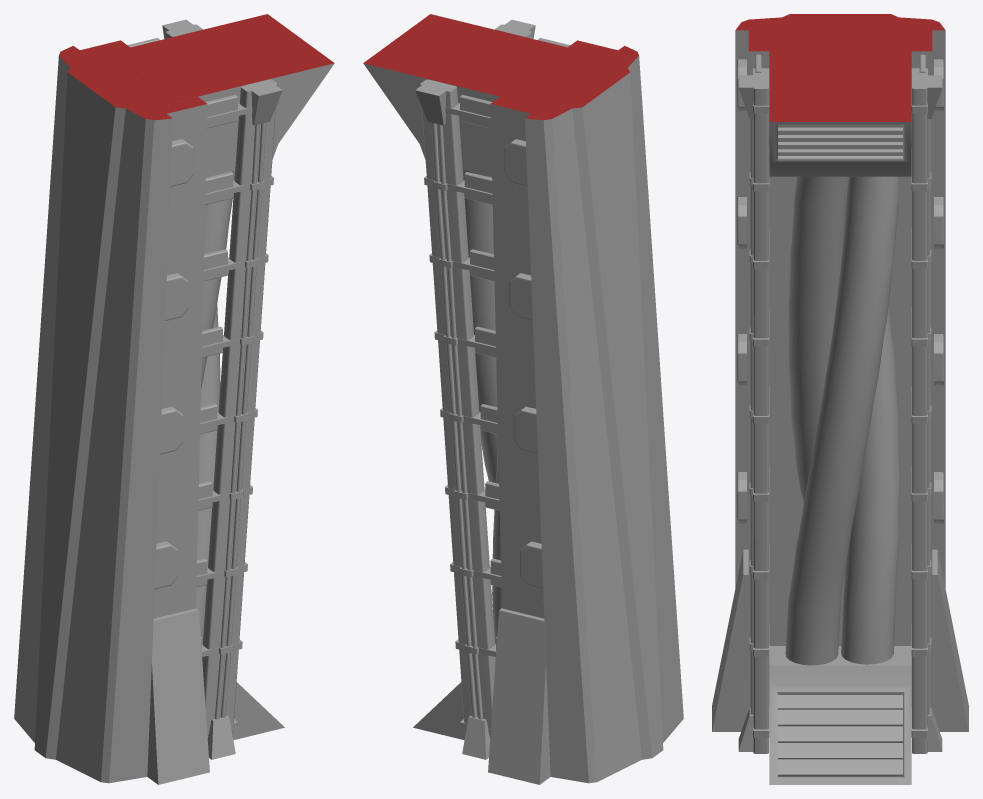
The model's file is SM_Pillar_Ramp.fbx.
3 views of the same model, side by side, from view 1: azimuth 30°, elevation 25°; view 2: azimuth 150°, elevation 25°; view 3: azimuth 270°, elevation 25° (orthographic). The views are drawn at different scales.
Visible parts, largest first — view 1: SM_Pillar_Ramp; view 2: SM_Pillar_Ramp; view 3: SM_Pillar_Ramp.
Part boxes in pixels (x1,y1,x2,y2): SM_Pillar_Ramp: (14,14,334,784); SM_Pillar_Ramp: (363,14,683,784); SM_Pillar_Ramp: (712,14,968,784).
Size of what is drawn, in the model's own units: 163 by 390 by 132.
